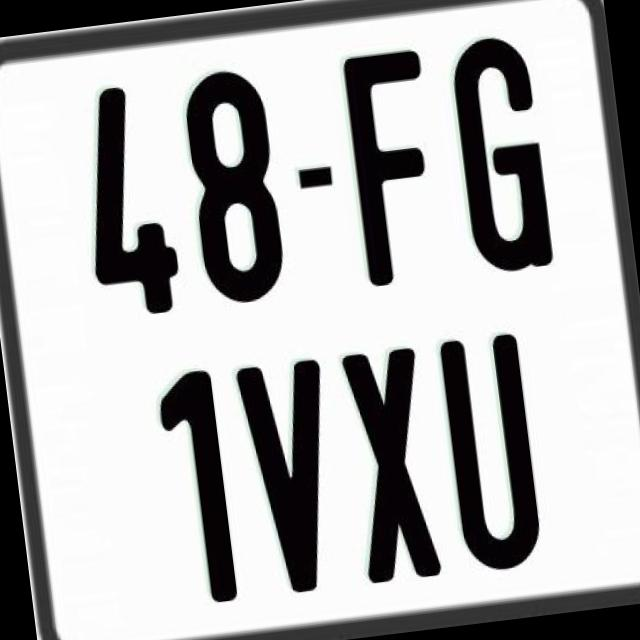1: (150, 368, 234, 605)
4: (72, 76, 190, 322)
8: (179, 62, 295, 311)
F: (340, 42, 454, 282)
G: (447, 31, 552, 272)
U: (438, 330, 546, 580)
V: (234, 354, 347, 602)
X: (340, 344, 440, 590)
